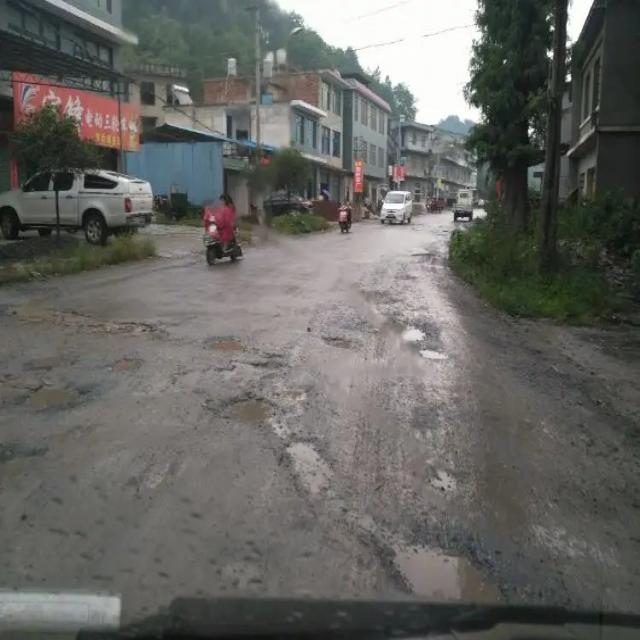Pothole: (379, 524, 508, 604), (35, 309, 161, 338), (282, 439, 336, 500), (16, 379, 90, 412), (221, 394, 276, 426), (26, 354, 82, 372), (431, 464, 462, 496), (200, 334, 247, 352), (402, 320, 429, 346), (320, 330, 358, 348), (102, 354, 138, 371)
